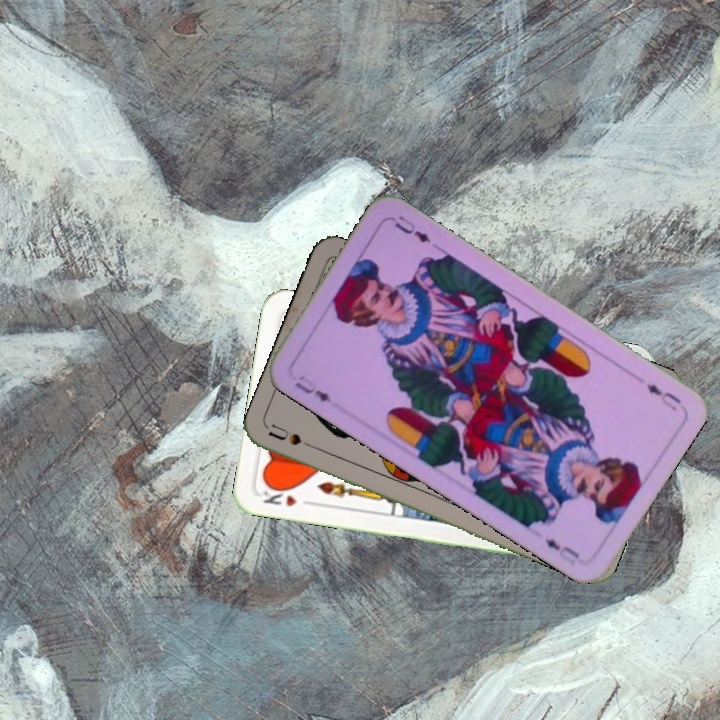EU: (642, 379, 684, 414), (291, 378, 334, 406)
HK: (259, 481, 316, 510)
SU: (265, 420, 323, 454)
